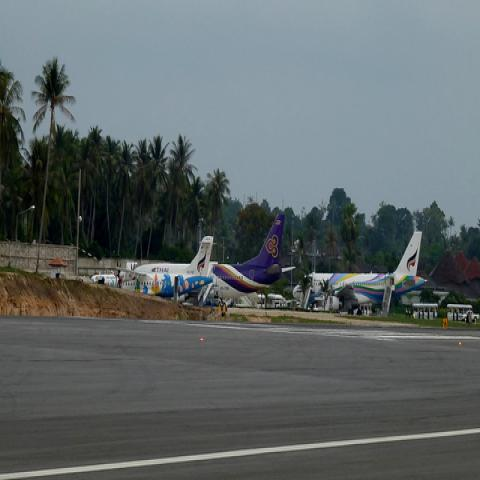bus: (446, 304, 472, 322), (413, 303, 439, 320)
